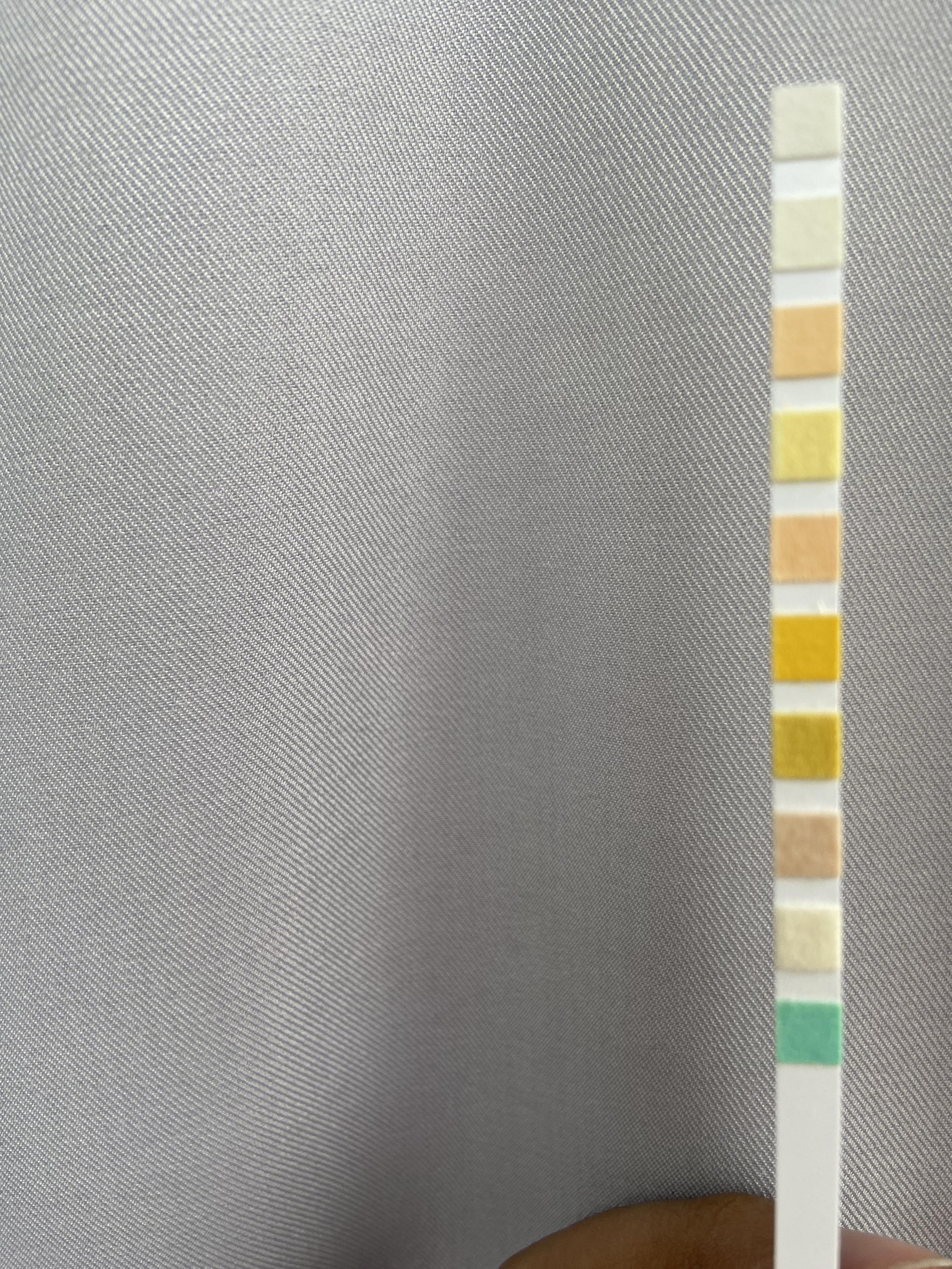Bilirubin: (780, 912, 837, 967)
Blood: (776, 619, 838, 678)
Glucose: (780, 1006, 841, 1062)
Ketone: (775, 815, 837, 877)
Leukocytes: (775, 92, 837, 151)
Nitrite: (775, 205, 840, 263)
Protein: (775, 416, 836, 477)
SpGravity: (776, 717, 838, 777)
Urobilinogen: (775, 312, 837, 371)
pH: (774, 521, 836, 579)
strip: (771, 85, 841, 1269)
